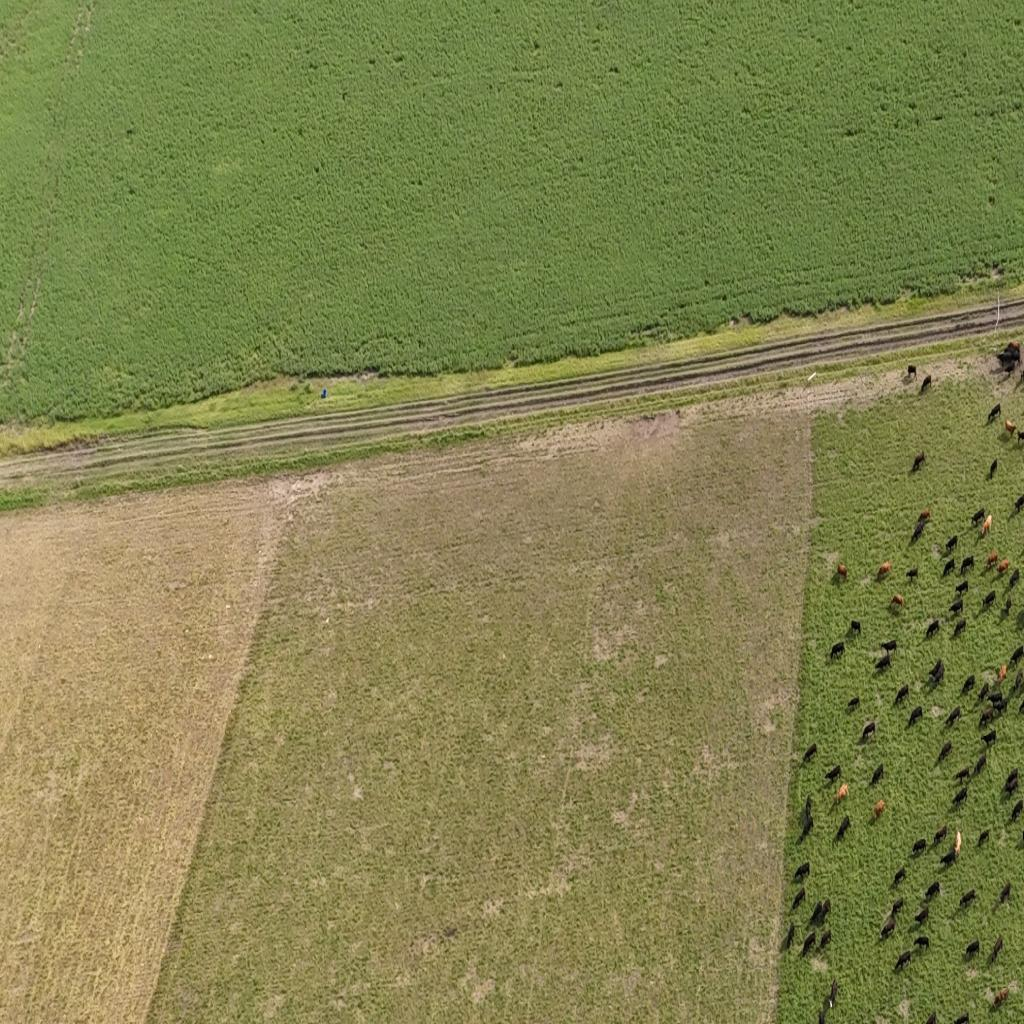cow: (908, 448, 929, 475), (798, 812, 817, 839), (988, 934, 1004, 964), (827, 782, 853, 800), (894, 949, 913, 973), (834, 816, 850, 844), (935, 740, 952, 766), (929, 658, 945, 685), (940, 846, 959, 868), (994, 696, 1013, 718), (880, 914, 896, 940), (800, 930, 816, 956), (979, 706, 997, 729), (1009, 799, 1024, 826), (1003, 775, 1023, 795), (827, 640, 849, 658), (1006, 568, 1024, 590), (1004, 762, 1022, 784), (808, 901, 822, 929), (782, 921, 794, 953), (976, 684, 992, 708), (791, 887, 806, 912), (793, 861, 810, 883), (824, 764, 842, 784), (958, 889, 976, 909), (954, 766, 972, 786), (981, 730, 999, 750), (828, 978, 840, 1008), (924, 880, 941, 901), (894, 685, 910, 707), (952, 786, 968, 808), (946, 707, 962, 729), (875, 653, 892, 673), (996, 346, 1013, 366), (802, 794, 815, 820), (908, 706, 924, 727), (914, 905, 930, 926), (998, 881, 1012, 905), (993, 987, 1009, 1008), (861, 719, 876, 741), (870, 763, 884, 786), (970, 508, 986, 528), (949, 598, 965, 618), (965, 939, 980, 960), (1009, 644, 1024, 665), (1011, 494, 1024, 518), (911, 522, 925, 544), (973, 755, 987, 777), (925, 619, 940, 639), (873, 799, 886, 822), (819, 928, 832, 951), (987, 404, 1001, 425), (892, 867, 906, 888), (914, 933, 930, 951), (911, 838, 927, 856), (988, 690, 1004, 708), (818, 898, 831, 920), (982, 590, 997, 609), (803, 744, 817, 764), (942, 558, 956, 578), (960, 556, 974, 576), (934, 824, 948, 844), (952, 620, 966, 640), (962, 674, 976, 694), (880, 640, 897, 656), (955, 580, 970, 598), (877, 561, 891, 580), (1014, 666, 1024, 692), (1009, 349, 1022, 368), (920, 374, 932, 394), (978, 828, 990, 848), (892, 896, 904, 916), (945, 535, 958, 553), (815, 1006, 828, 1024), (981, 518, 992, 539), (890, 594, 904, 610), (954, 829, 962, 857), (986, 550, 1000, 566), (849, 620, 862, 637), (997, 664, 1008, 684), (988, 459, 998, 480), (918, 507, 932, 522), (1006, 593, 1016, 614), (906, 566, 919, 582), (1006, 418, 1016, 438), (837, 562, 848, 580), (998, 559, 1010, 575), (954, 1012, 970, 1024), (847, 696, 860, 710), (1004, 363, 1017, 376), (925, 1010, 937, 1024), (1015, 430, 1024, 447), (907, 364, 916, 380), (1009, 342, 1020, 355), (1019, 697, 1024, 716)
